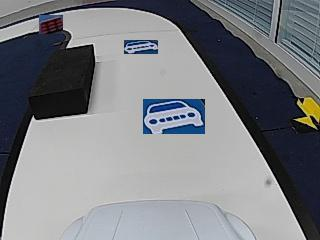block: (29, 45, 96, 120)
